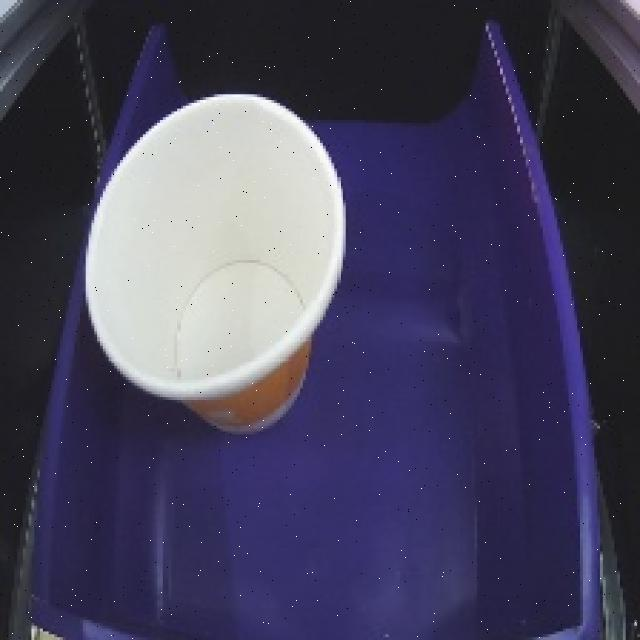cups: (63, 83, 367, 444)
